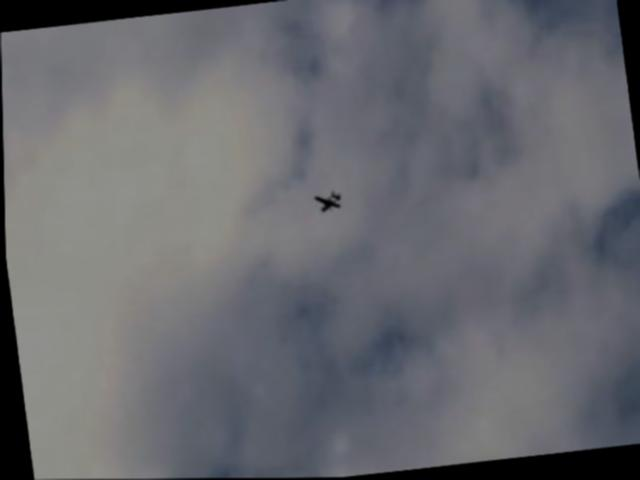uav: (308, 185, 343, 218)
